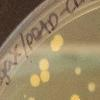yellow: (48, 34, 64, 52), (29, 73, 41, 88), (38, 70, 50, 83), (38, 56, 49, 69), (86, 80, 96, 93), (69, 93, 80, 100), (74, 66, 82, 75), (27, 95, 36, 100)
